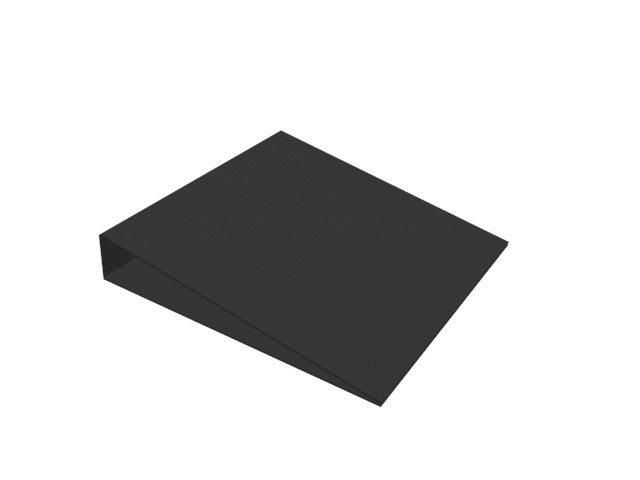ring_binder: (97, 129, 512, 408)
